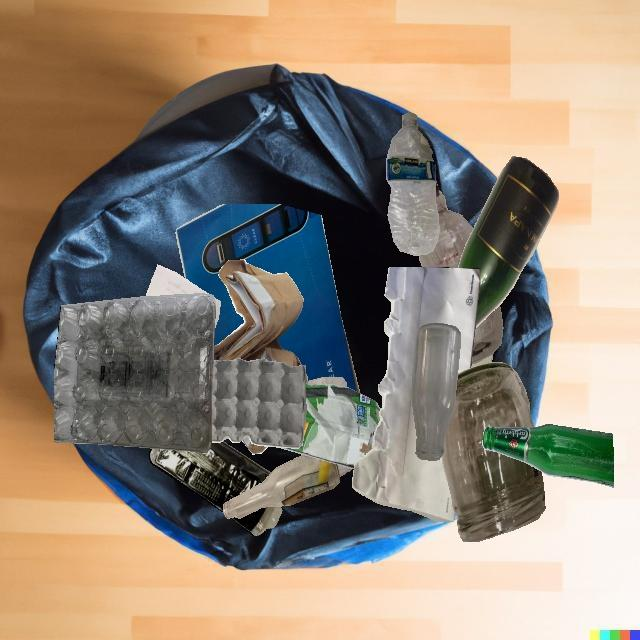cardboard: (213, 259, 304, 367), (276, 383, 381, 469), (211, 358, 306, 449)
glass: (442, 362, 545, 542), (458, 156, 559, 329), (482, 424, 614, 487), (223, 455, 340, 519), (412, 323, 461, 461), (308, 377, 346, 387), (337, 465, 351, 477)
paper: (175, 204, 360, 393), (352, 267, 480, 522), (146, 265, 210, 296), (471, 353, 493, 368)
plastic: (54, 293, 216, 452), (149, 441, 271, 512), (387, 112, 439, 255), (419, 181, 473, 268), (471, 305, 503, 364)
